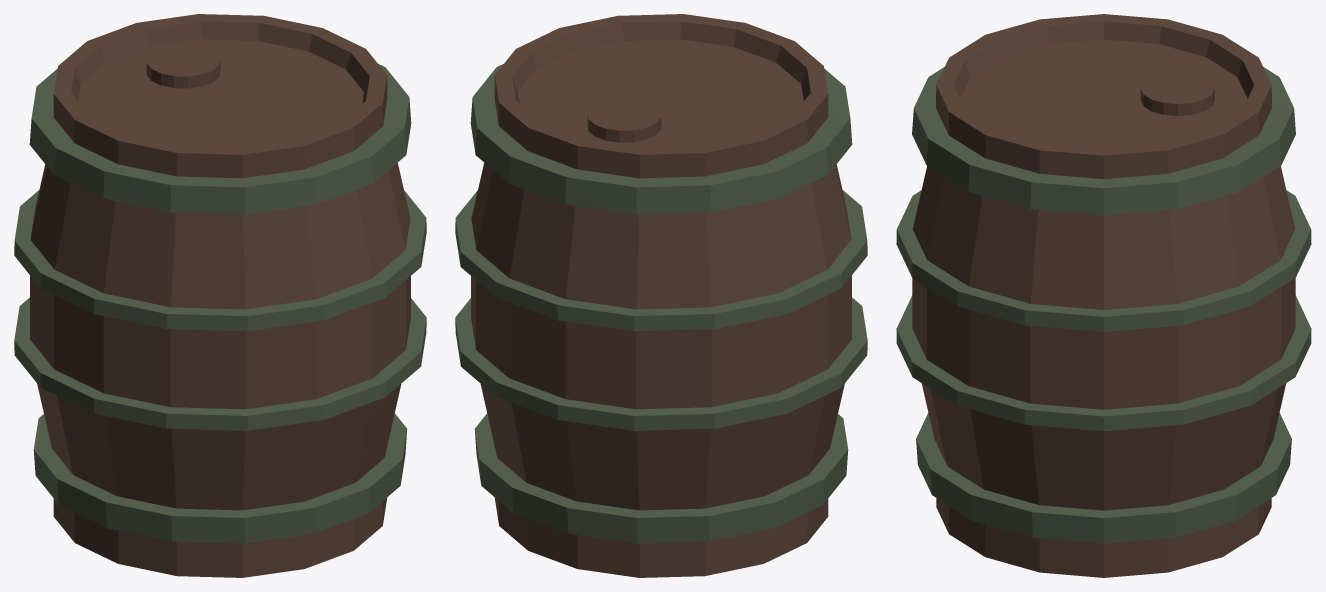
File: wooden_barrel_broken.fbx
3 renders of one model, left to right at view 1: azimuth 30°, elevation 25°; view 2: azimuth 150°, elevation 25°; view 3: azimuth 270°, elevation 25°, orthographic.
Visible parts, largest first — view 1: Cylinder.002, Cylinder.003, Cylinder.001, Cylinder.004, Cylinder.005; view 2: Cylinder.003, Cylinder.004, Cylinder.002, Cylinder.005, Cylinder.001; view 3: Cylinder.002, Cylinder.004, Cylinder.003, Cylinder.005.
Part boxes in pixels (x1,y1,x2,y2): Cylinder.002: [83, 58, 426, 577]; Cylinder.003: [14, 15, 387, 577]; Cylinder.001: [70, 234, 315, 543]; Cylinder.004: [78, 14, 417, 417]; Cylinder.005: [146, 45, 220, 88]; Cylinder.003: [494, 59, 867, 577]; Cylinder.004: [455, 39, 726, 512]; Cylinder.002: [536, 14, 831, 140]; Cylinder.005: [587, 99, 661, 142]; Cylinder.001: [812, 164, 865, 459]; Cylinder.002: [896, 41, 1158, 562]; Cylinder.004: [1036, 44, 1295, 543]; Cylinder.003: [975, 14, 1311, 577]; Cylinder.005: [1140, 73, 1214, 115].
Size of the model in its own units: 247 by 278 by 247.
